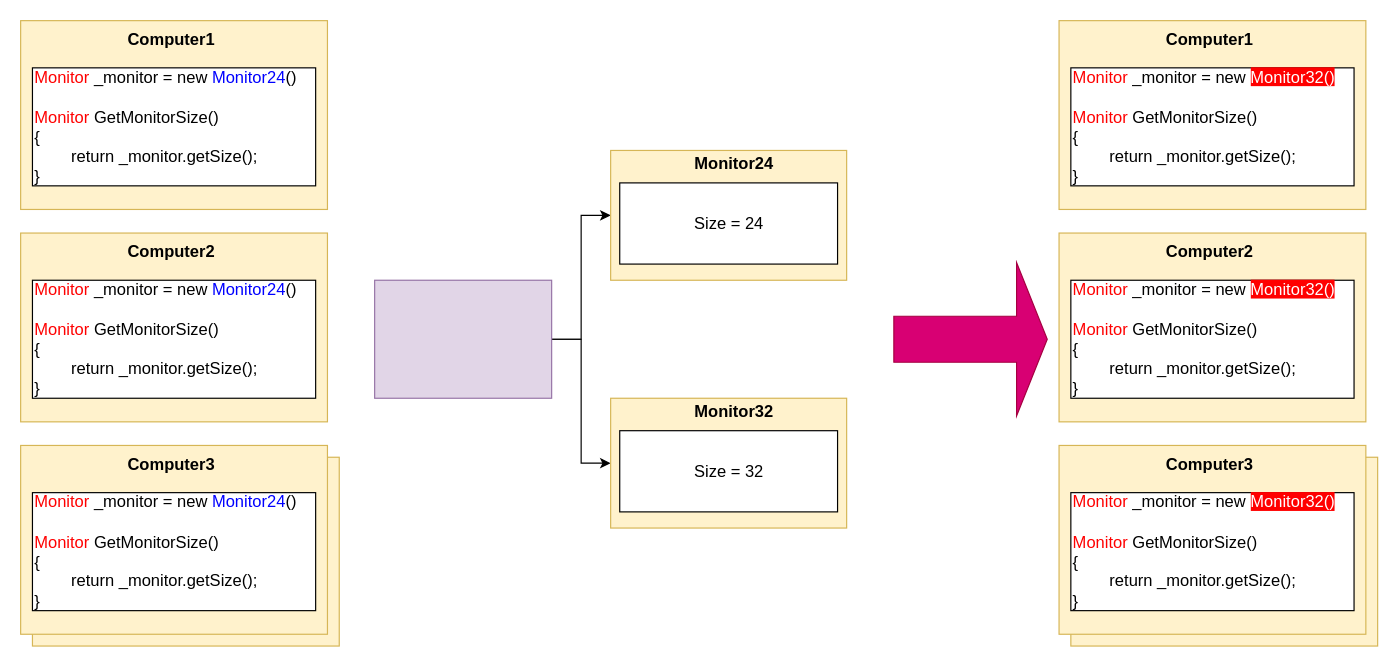
Image size: 1398x667. Some labels were removed from this diagram. The box of each missing label's shape, as (x1, y1, x2, y2) in pixels:
Monitor InterFace getSize();: (373, 279, 552, 398)
변경시: (893, 261, 1047, 416)
